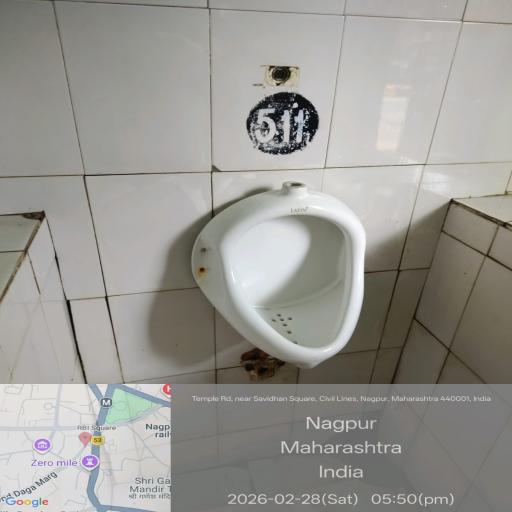clean_urinal: (205, 204, 398, 394)
